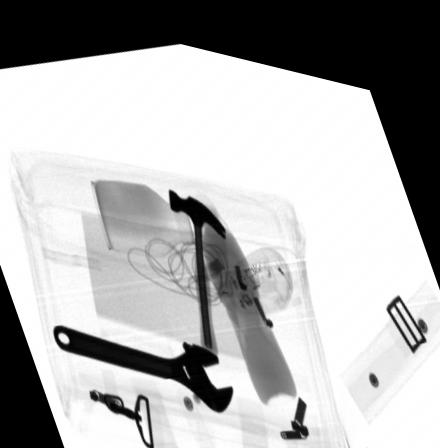Hammer: (168, 180, 226, 346)
Wrench: (53, 322, 234, 403)
